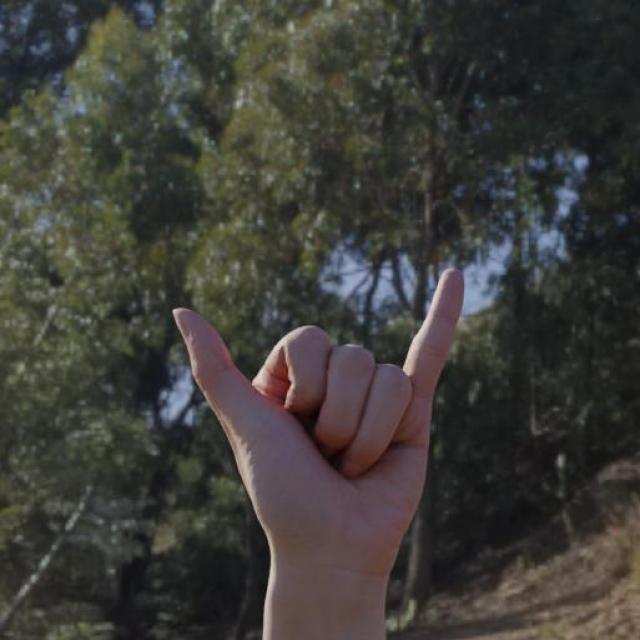Y: (144, 259, 474, 597)
